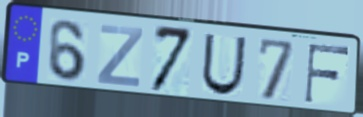6: (46, 18, 89, 85)
7: (148, 23, 195, 95), (257, 36, 296, 103)
F: (302, 42, 352, 106)
U: (199, 31, 249, 97)
Z: (95, 23, 146, 89)
